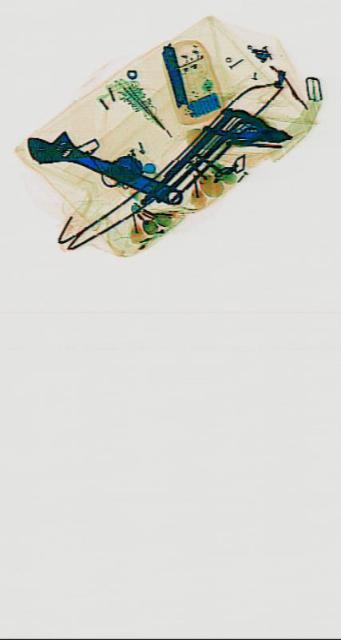Pliers: (217, 104, 290, 152)
Wrench: (23, 115, 182, 219)
